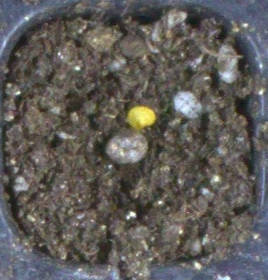pepper seed: (47, 41, 204, 171)
